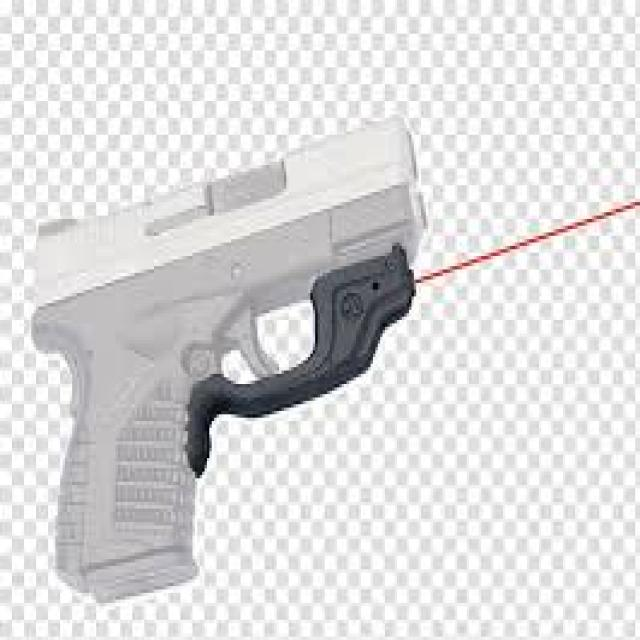Gun: (7, 127, 471, 573)
